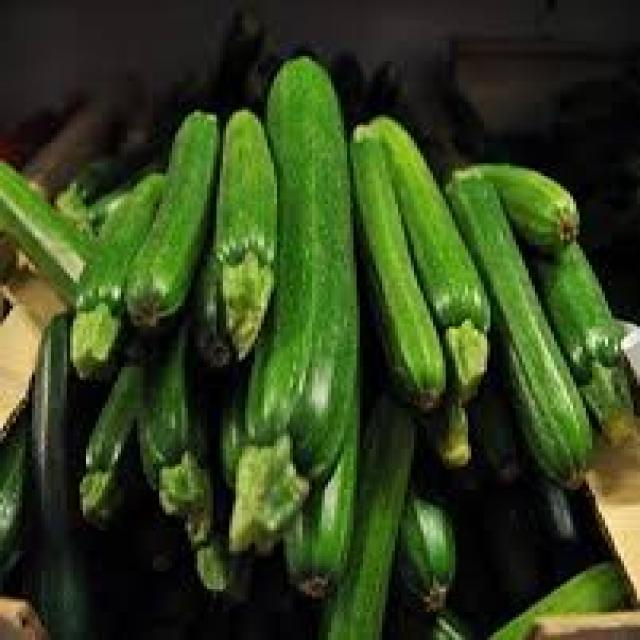Zucchini: (241, 67, 349, 550)
